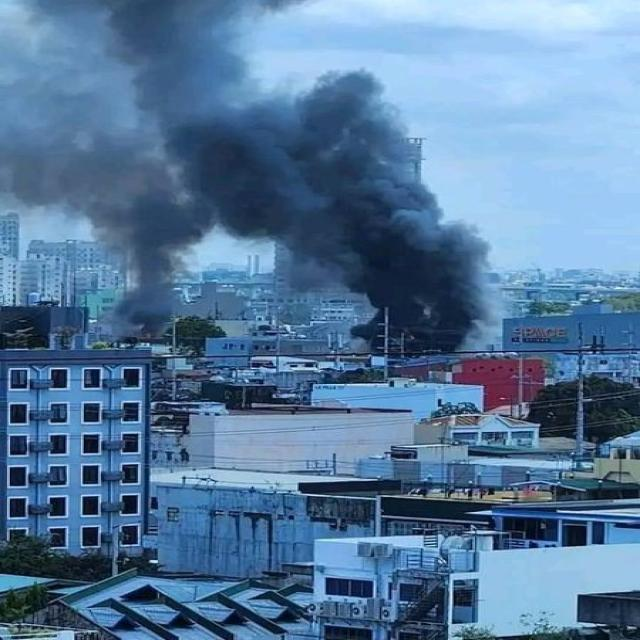Smoke: (109, 0, 493, 361), (5, 71, 211, 334)
